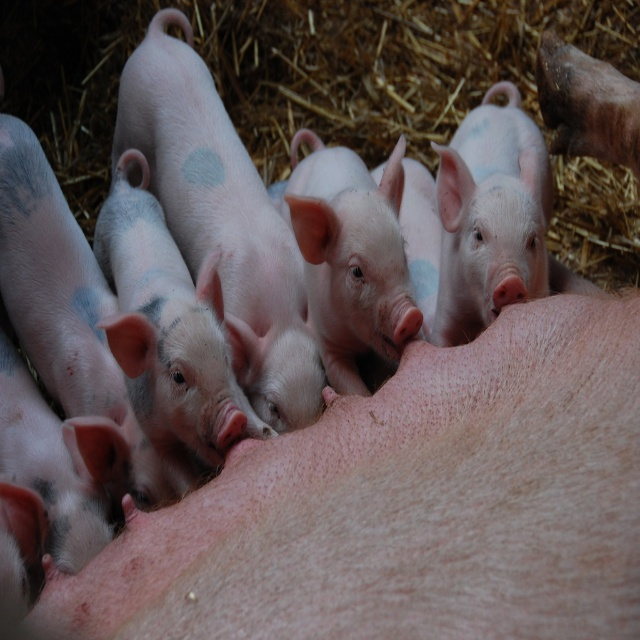Pig: (0, 8, 640, 639)
